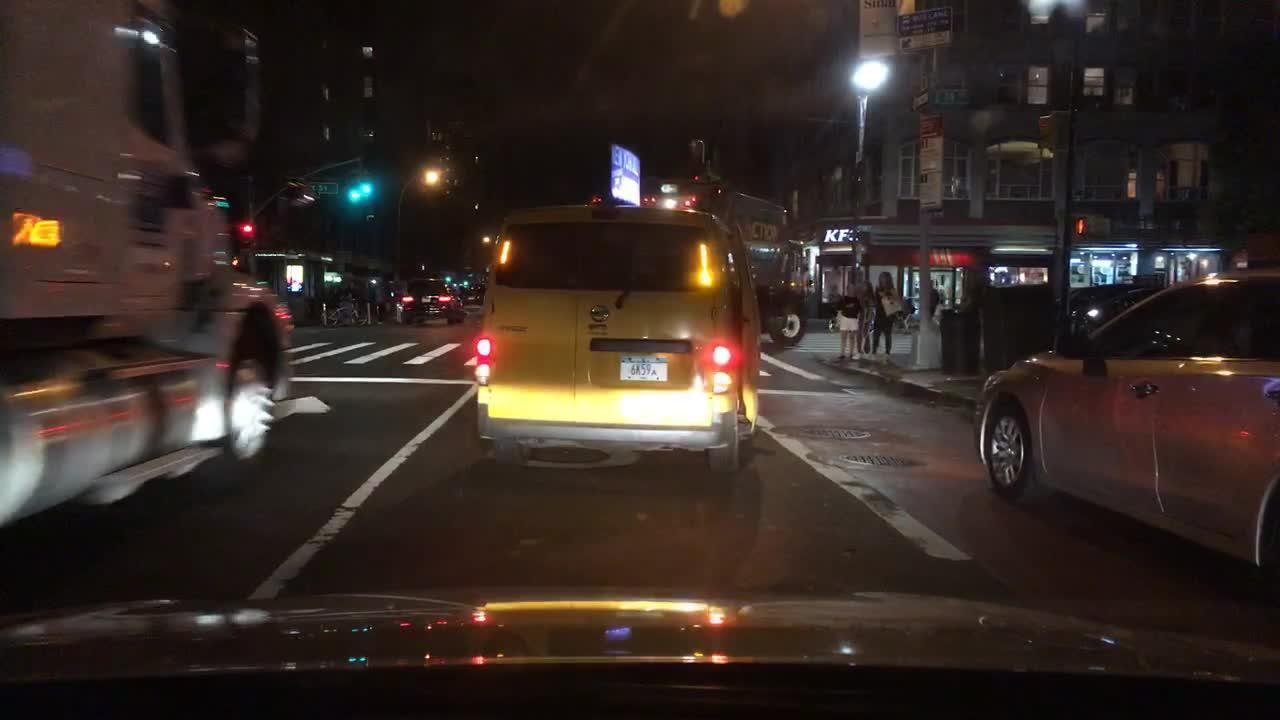Nissan: (583, 299, 618, 325)
